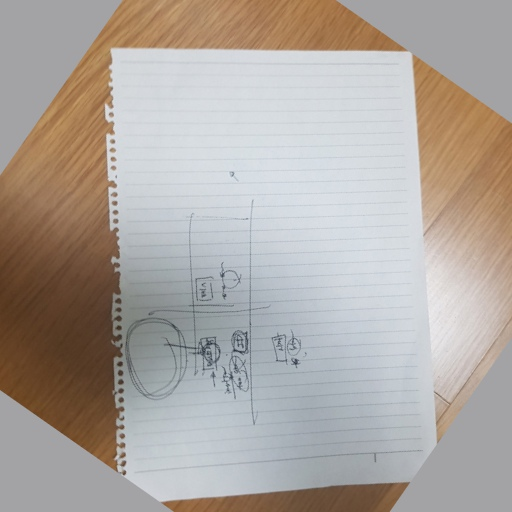Paper_2: (101, 39, 448, 505)
